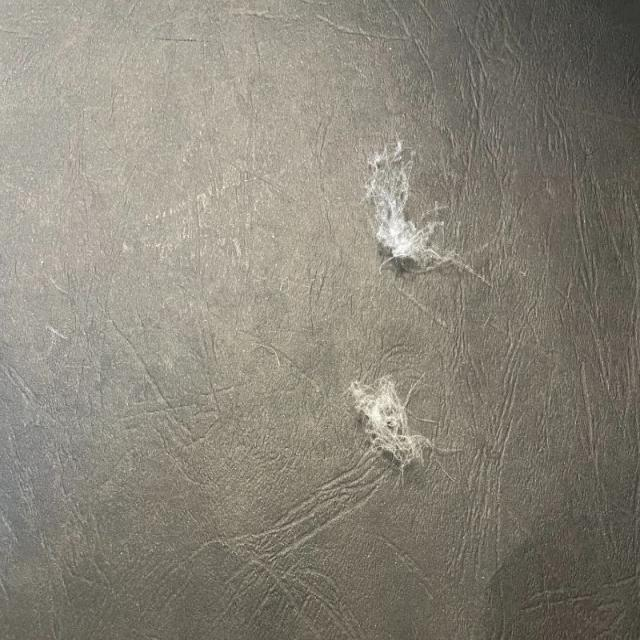feather: (362, 142, 441, 269), (349, 373, 427, 465)
